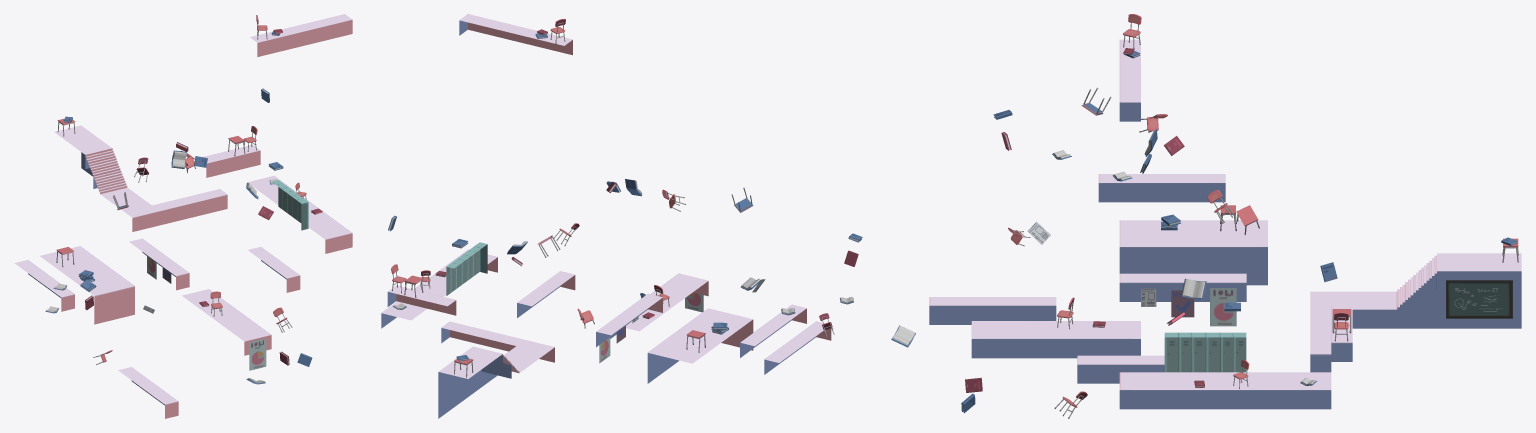
Rendered from FOR_GODOT_level1_final.fbx.
3 views of the same model, side by side, from view 1: azimuth 30°, elevation 25°; view 2: azimuth 150°, elevation 25°; view 3: azimuth 270°, elevation 25° (orthographic). The views are drawn at different scales.
Parts seen in each view (by area): view 1: level_base, lockers, poster.004; view 2: level_base, lockers; view 3: level_base, lockers, poster, poster.01.
Boxes of the visible parts, x1=… form: level_base: x1=14, y1=14, x2=352, y2=418; lockers: x1=271, y1=180, x2=308, y2=230; poster.004: x1=249, y1=338, x2=266, y2=370; level_base: x1=381, y1=14, x2=831, y2=418; lockers: x1=446, y1=242, x2=487, y2=295; level_base: x1=929, y1=39, x2=1521, y2=409; lockers: x1=1164, y1=332, x2=1246, y2=372; poster: x1=1446, y1=280, x2=1512, y2=318; poster.01: x1=1210, y1=288, x2=1236, y2=326.
Bounding box in the file's own units: 2416 × 2150 × 2980.
Materials: 1 (1 with a texture image).
